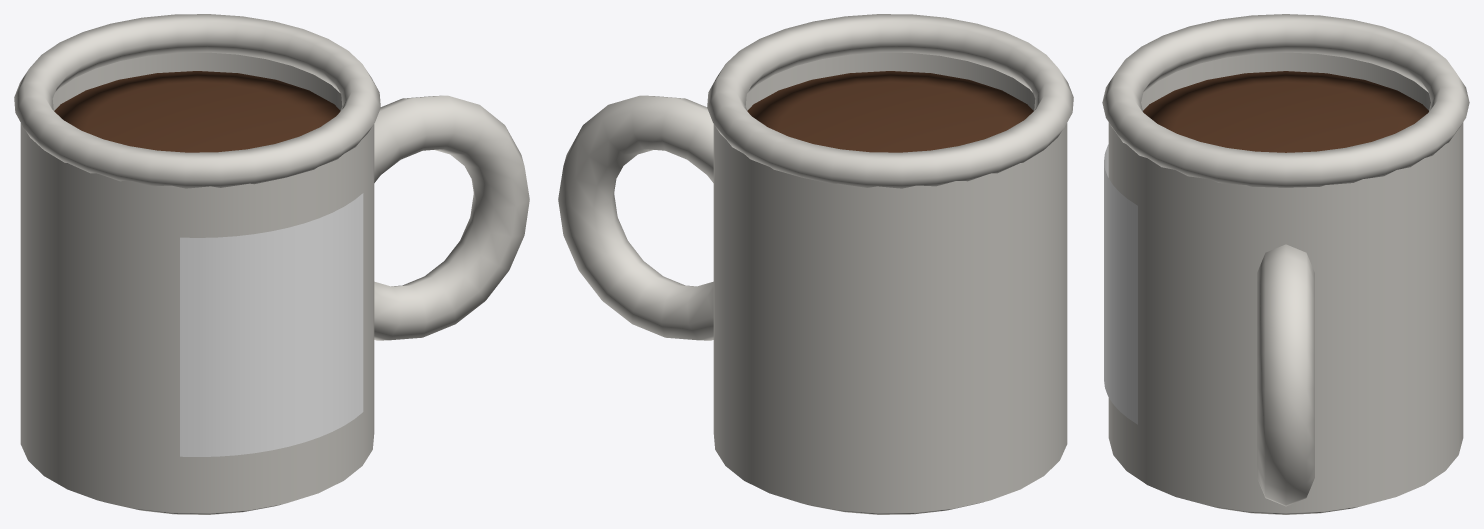
Rendered from hand_mug.glb.
3 views of the same model, side by side, from view 1: azimuth 30°, elevation 25°; view 2: azimuth 150°, elevation 25°; view 3: azimuth 270°, elevation 25° (orthographic).
Visible parts, largest first — view 1: hand_mug; view 2: hand_mug; view 3: hand_mug.
Boxes of the visible parts, bbox=[...] form: hand_mug: bbox=[14, 14, 529, 514]; hand_mug: bbox=[558, 14, 1073, 514]; hand_mug: bbox=[1102, 14, 1469, 514].
Size of the model in its own units: 0.175 by 0.1282 by 0.114.
